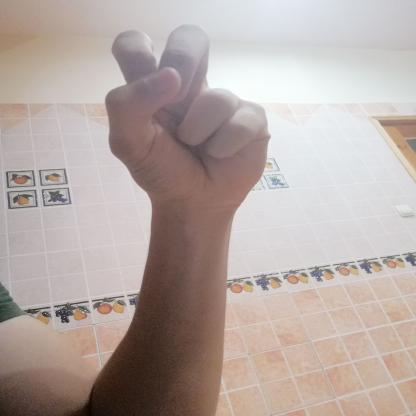QAAF: (84, 14, 296, 225)
